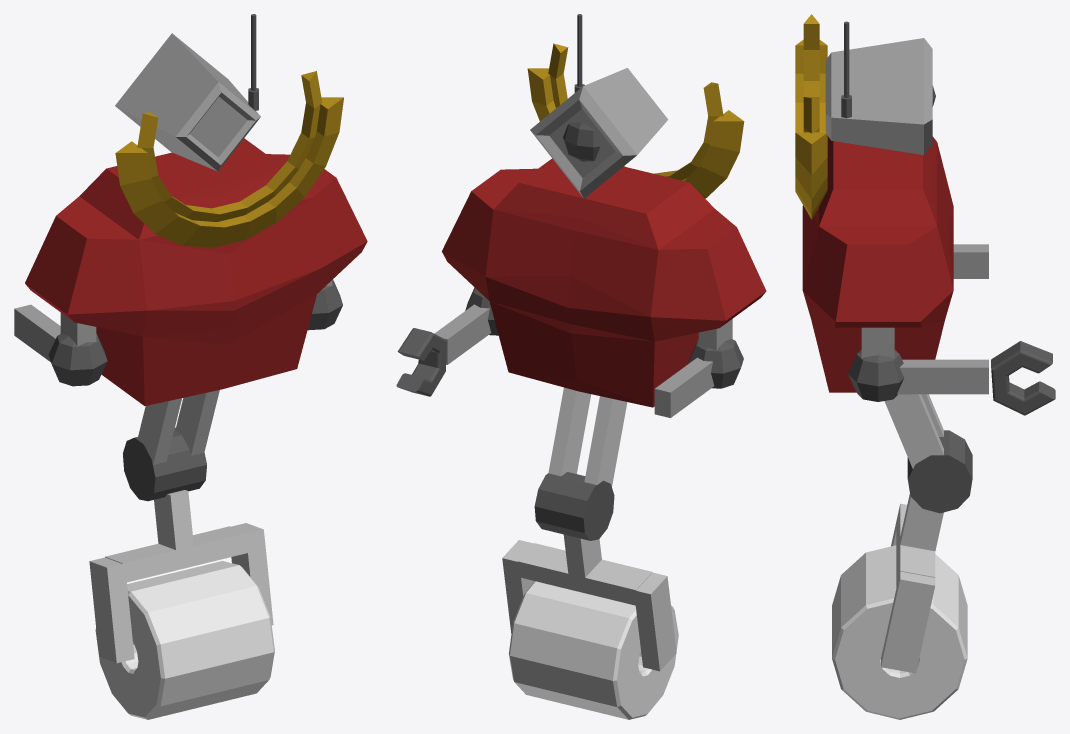
File: persoOK.fbx
3 renders of one model, left to right at view 1: azimuth 30°, elevation 25°; view 2: azimuth 150°, elevation 25°; view 3: azimuth 270°, elevation 25°, orthographic. The views are drawn at different scales.
Parts seen in each view (by area): view 1: Cube_2_3, Tube, Cube_1_2, Tore_3, Tore_1_2, Cylindre, Cube_1_4, Cube_1, Cube_3, Sphère_2, Cube, Cube_2 (+3 smaller); view 2: Cube_2_3, Tube, Cube_1_2, Cube_1_4, Cylindre, Cube_1, Tore_3, Cube_3, Tube_1, Tore_1_2, Cube_4, Cube_2_2 (+5 smaller); view 3: Cube_2_3, Tube, Cube_1_2, Tore_3, Cylindre, Cube_2, Cube_2_2, Tube_1, Cube_1_4, Sphère_1, Tore_1_2, Cube (+4 smaller).
Boxes of the visible parts, bbox=[...] form: Cube_2_3: bbox=[25, 138, 367, 405]; Tube: bbox=[95, 561, 274, 719]; Cube_1_2: bbox=[115, 33, 260, 171]; Tore_3: bbox=[115, 97, 343, 247]; Tore_1_2: bbox=[137, 71, 322, 221]; Cylindre: bbox=[123, 427, 206, 501]; Cube_1_4: bbox=[137, 390, 219, 464]; Cube_1: bbox=[105, 526, 247, 582]; Cube_3: bbox=[89, 557, 134, 663]; Sphère_2: bbox=[48, 333, 107, 386]; Cube: bbox=[154, 490, 194, 556]; Cube_2: bbox=[231, 523, 273, 625]; Cube_2_3: bbox=[442, 158, 766, 407]; Tube: bbox=[509, 581, 678, 719]; Cube_1_2: bbox=[530, 68, 668, 198]; Cube_1_4: bbox=[548, 387, 627, 486]; Cylindre: bbox=[534, 472, 614, 540]; Cube_1: bbox=[517, 543, 652, 605]; Tore_3: bbox=[527, 68, 744, 198]; Cube_3: bbox=[635, 572, 676, 671]; Tube_1: bbox=[396, 328, 446, 396]; Tore_1_2: bbox=[548, 43, 723, 180]; Cube_4: bbox=[654, 357, 714, 417]; Cube_2_2: bbox=[434, 304, 491, 364]; Cube_2_3: bbox=[802, 136, 953, 392]; Tube: bbox=[832, 545, 967, 719]; Cube_1_2: bbox=[825, 38, 932, 154]; Tore_3: bbox=[795, 39, 827, 219]; Cylindre: bbox=[907, 430, 972, 513]; Cube_2: bbox=[881, 571, 935, 673]; Cube_2_2: bbox=[897, 359, 988, 394]; Tube_1: bbox=[991, 341, 1055, 415]; Cube_1_4: bbox=[884, 394, 943, 468]; Sphère_1: bbox=[848, 349, 904, 401]; Tore_1_2: bbox=[803, 14, 819, 133]; Cube: bbox=[899, 494, 943, 551].
Size of the model in its own units: 110 by 245 by 83.43.
